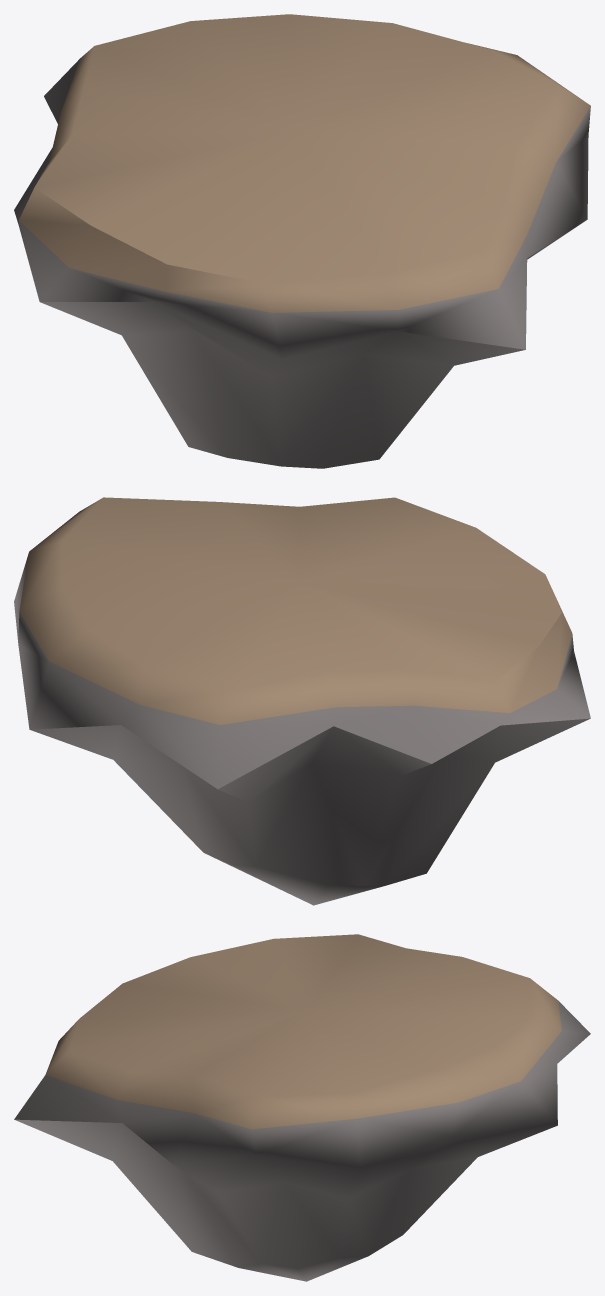
The model's file is Schwebestein_1.fbx.
3 renders of one model, top to bottom at view 1: azimuth 30°, elevation 25°; view 2: azimuth 150°, elevation 25°; view 3: azimuth 270°, elevation 25°, orthographic. The views are drawn at different scales.
Parts seen in each view (by area): view 1: Schwebestein_1; view 2: Schwebestein_1; view 3: Schwebestein_1.
Part boxes in pixels (x1,y1,x2,y2): Schwebestein_1: [14, 14, 590, 468]; Schwebestein_1: [14, 497, 590, 905]; Schwebestein_1: [14, 934, 590, 1281].
Bounding box in the file's own units: 1127 × 678 × 1239.
